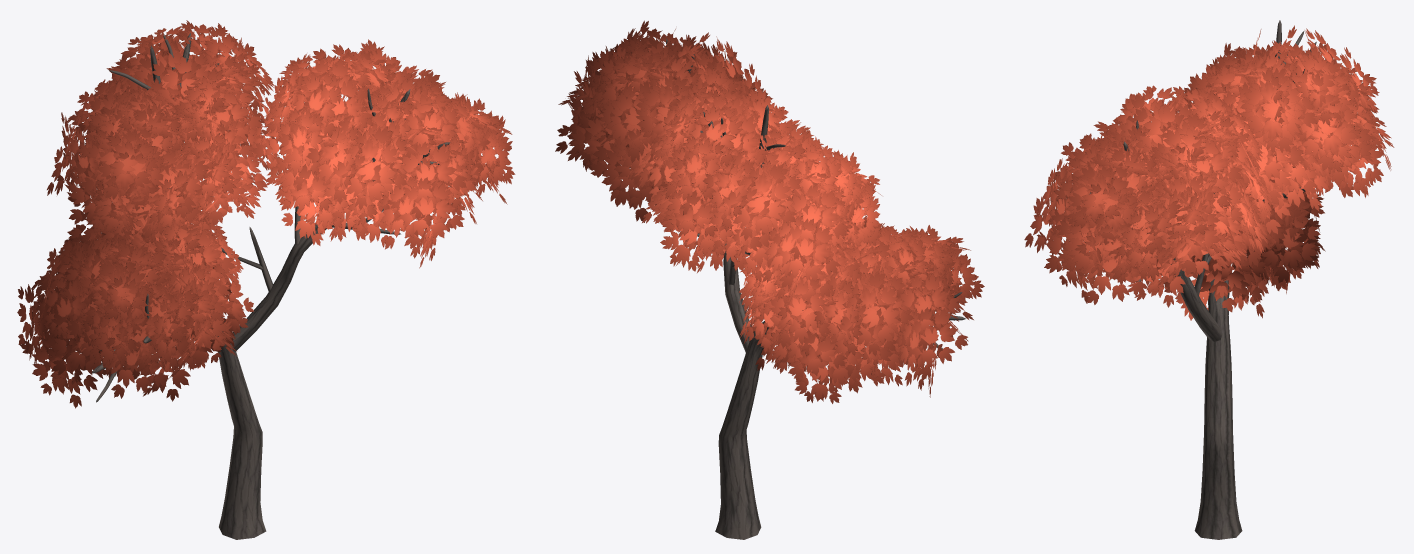
The model's file is maple_tree_5.gltf.
3 views of the same model, side by side, from view 1: azimuth 30°, elevation 25°; view 2: azimuth 150°, elevation 25°; view 3: azimuth 270°, elevation 25° (orthographic). The views are drawn at different scales.
Visible parts, largest first — view 1: MapleTree_5; view 2: MapleTree_5; view 3: MapleTree_5.
Boxes of the visible parts, left/top/right/bottom form: MapleTree_5: left=17, top=20, right=515, bottom=539; MapleTree_5: left=555, top=20, right=984, bottom=539; MapleTree_5: left=1024, top=20, right=1394, bottom=539.
Bounding box in the file's own units: 7.01 × 7.28 × 5.08.
Materials: 2 (2 with a texture image).
